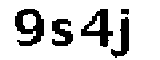4: (77, 7, 116, 49)
9: (12, 7, 44, 49)
j: (110, 4, 138, 60)
s: (47, 19, 74, 52)
